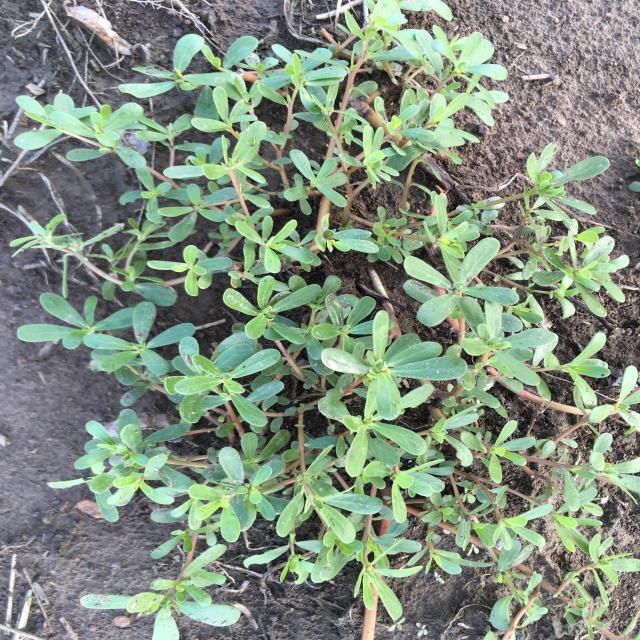Purslane: (10, 0, 640, 640)
